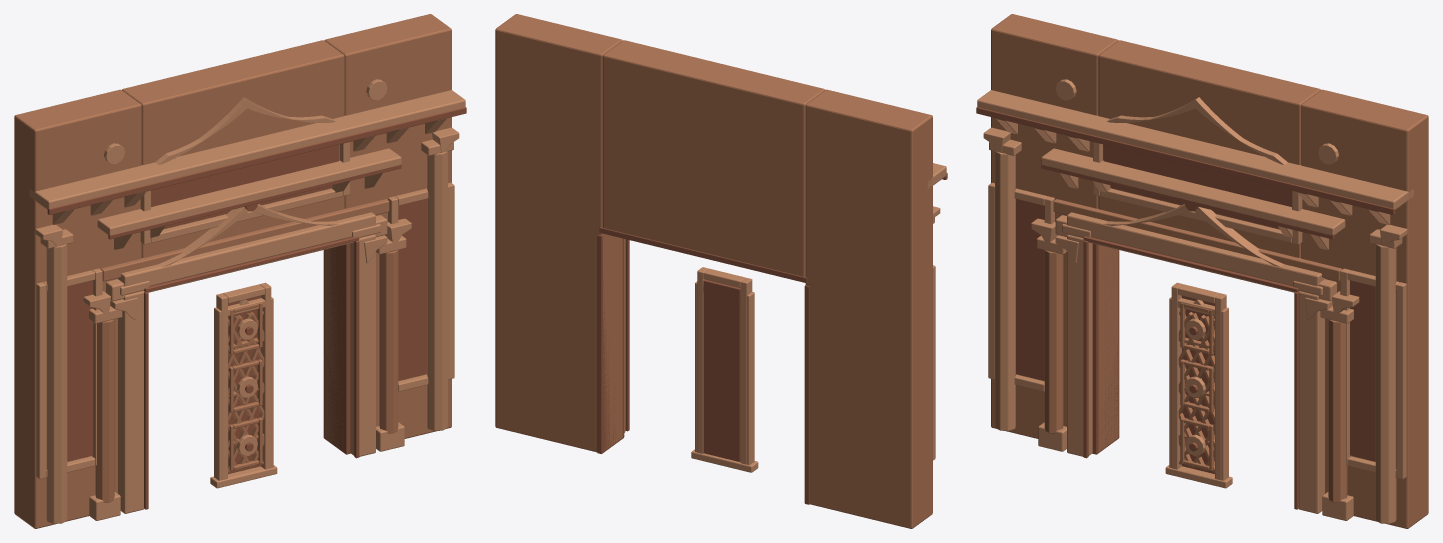
File: mughal.glb
3 renders of one model, left to right at view 1: azimuth 30°, elevation 25°; view 2: azimuth 150°, elevation 25°; view 3: azimuth 330°, elevation 25°, orthographic.
Parts seen in each view (by area): view 1: PishtaqMassL, PishtaqMassTop, PishtaqMassR, PishtaqChhajja, PilOuterL, PilOuterR, PishtaqArcadeChhajja, PishtaqL, ArchEdgeSoffit, PishtaqTop, PishtaqJaliShadowR, PishtaqR (+24 smaller); view 2: PishtaqMassL, PishtaqMassR, PishtaqMassTop, JaliPanelBacking, ArchEdgeSoffit, Sandframe, JaliBorder, ArchEdge, PishtaqJaliRecessL, JaliSill; view 3: PishtaqMassR, PishtaqMassL, PishtaqMassTop, PishtaqChhajja, PilOuterR, PilOuterL, PishtaqArcadeChhajja, PishtaqR, PishtaqTop, PishtaqJaliShadowL, PishtaqL, PishtaqJaliShadowR (+24 smaller).
Part boxes in pixels (<box>): PishtaqMassL: <box>14,89,141,528</box>; PishtaqMassTop: <box>122,40,344,257</box>; PishtaqMassR: <box>324,14,451,450</box>; PishtaqChhajja: <box>29,90,465,209</box>; PilOuterL: <box>46,244,67,523</box>; PilOuterR: <box>427,151,447,430</box>; PishtaqArcadeChhajja: <box>97,148,401,235</box>; PishtaqL: <box>118,291,143,513</box>; ArchEdgeSoffit: <box>323,243,350,454</box>; PishtaqTop: <box>118,212,375,286</box>; PishtaqJaliShadowR: <box>398,199,426,380</box>; PishtaqR: <box>350,234,375,456</box>; PishtaqMassL: <box>805,89,932,528</box>; PishtaqMassR: <box>495,14,622,452</box>; PishtaqMassTop: <box>602,40,825,276</box>; JaliPanelBacking: <box>703,279,740,461</box>; ArchEdgeSoffit: <box>597,227,809,504</box>; Sandframe: <box>697,267,752,464</box>; JaliBorder: <box>695,281,754,464</box>; ArchEdge: <box>625,239,629,431</box>; PishtaqJaliRecessL: <box>933,265,935,460</box>; JaliSill: <box>691,449,758,472</box>; PishtaqMassR: <box>1301,89,1428,528</box>; PishtaqMassL: <box>991,14,1118,451</box>; PishtaqMassTop: <box>1098,40,1320,257</box>; PishtaqChhajja: <box>977,90,1413,209</box>; PilOuterR: <box>1375,244,1396,523</box>; PilOuterL: <box>995,151,1015,430</box>; PishtaqArcadeChhajja: <box>1041,148,1345,235</box>; PishtaqR: <box>1299,291,1324,513</box>; PishtaqTop: <box>1067,212,1324,286</box>; PishtaqJaliShadowL: <box>1016,199,1044,380</box>; PishtaqL: <box>1067,234,1092,456</box>; PishtaqJaliShadowR: <box>1350,280,1375,461</box>.
Bounding box in the file's own units: 7 × 6.4 × 1.05.
